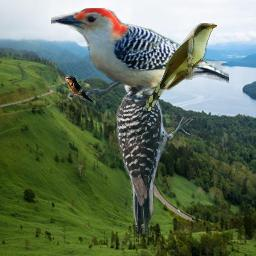Cuckoo: (146, 23, 217, 111)
Swallow: (65, 75, 96, 105)
Woodpecker: (51, 8, 229, 105), (113, 66, 198, 236)
